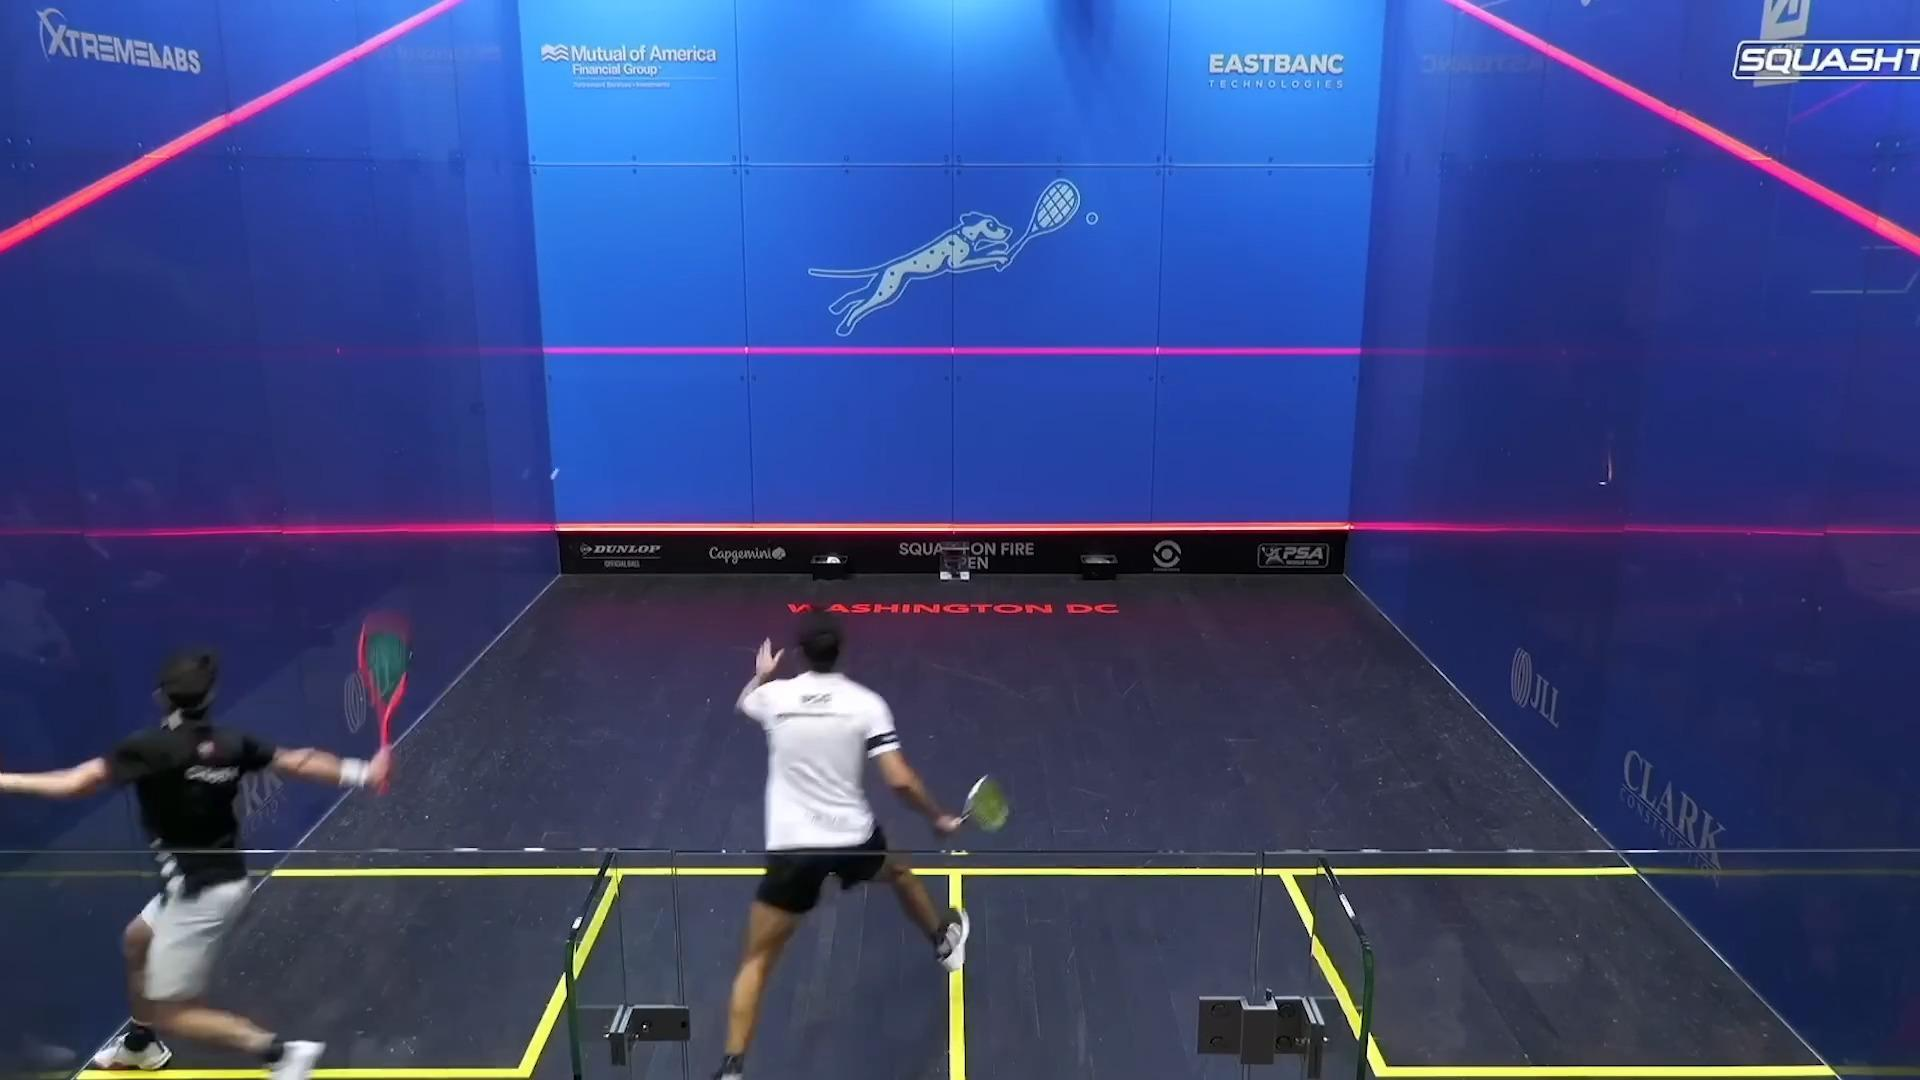Squash-Ball: (534, 458, 579, 497)
